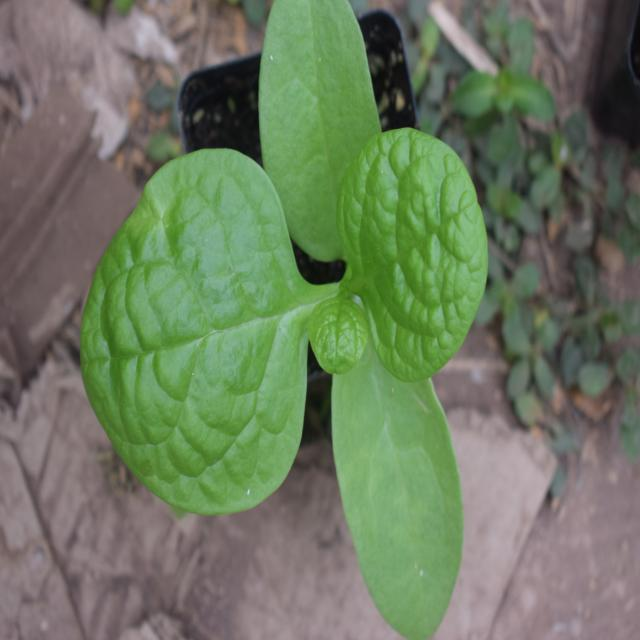Ceylon spinach: (100, 27, 473, 617)
